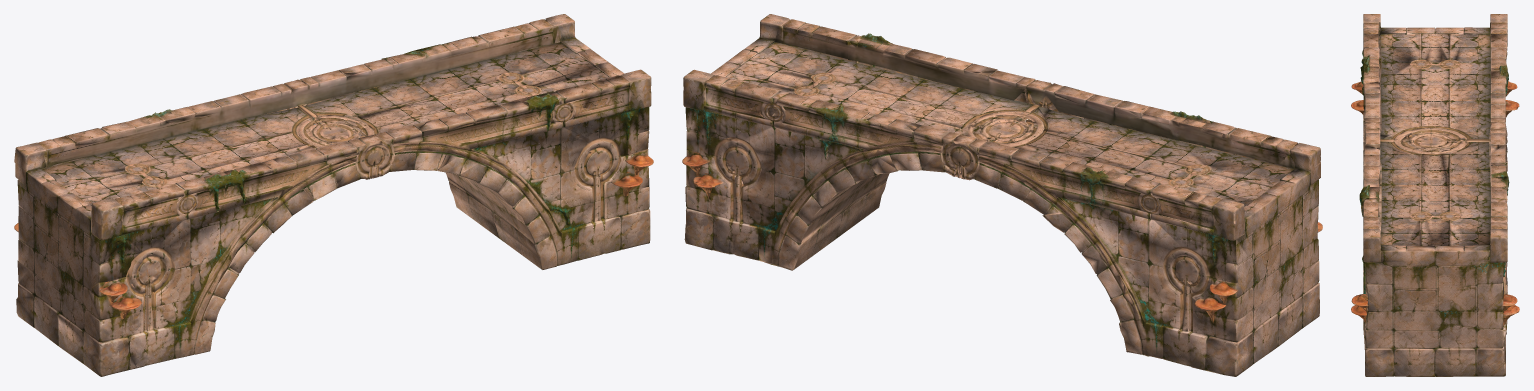
The model's file is citadel_bridge.glb.
3 views of the same model, side by side, from view 1: azimuth 30°, elevation 25°; view 2: azimuth 150°, elevation 25°; view 3: azimuth 270°, elevation 25° (orthographic). The views are drawn at different scales.
Size of the model in its own units: 0.9482 by 0.2856 by 0.3003.
Materials: 1 (1 with a texture image).
